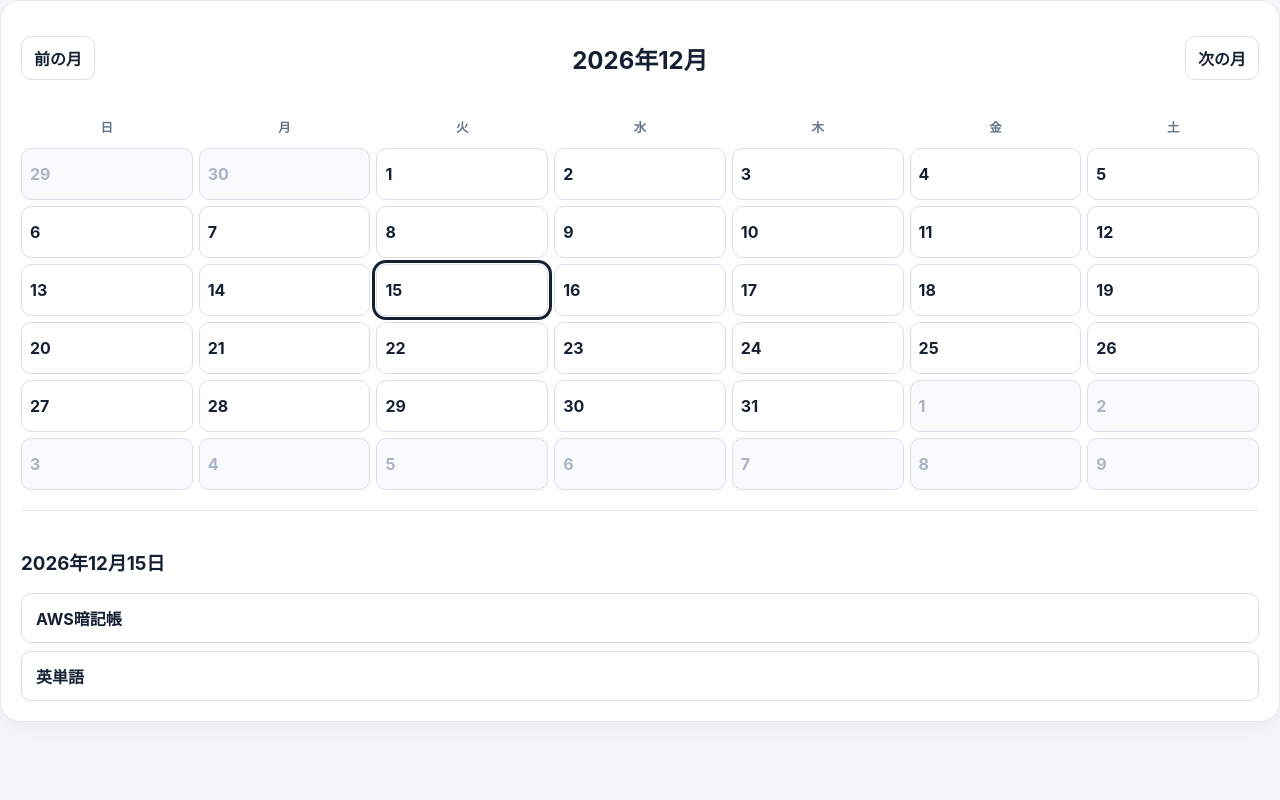
CalendarView › navigates across the year boundary
Click the button "次の月" at (1222, 58), box [1185, 36, 1259, 80]
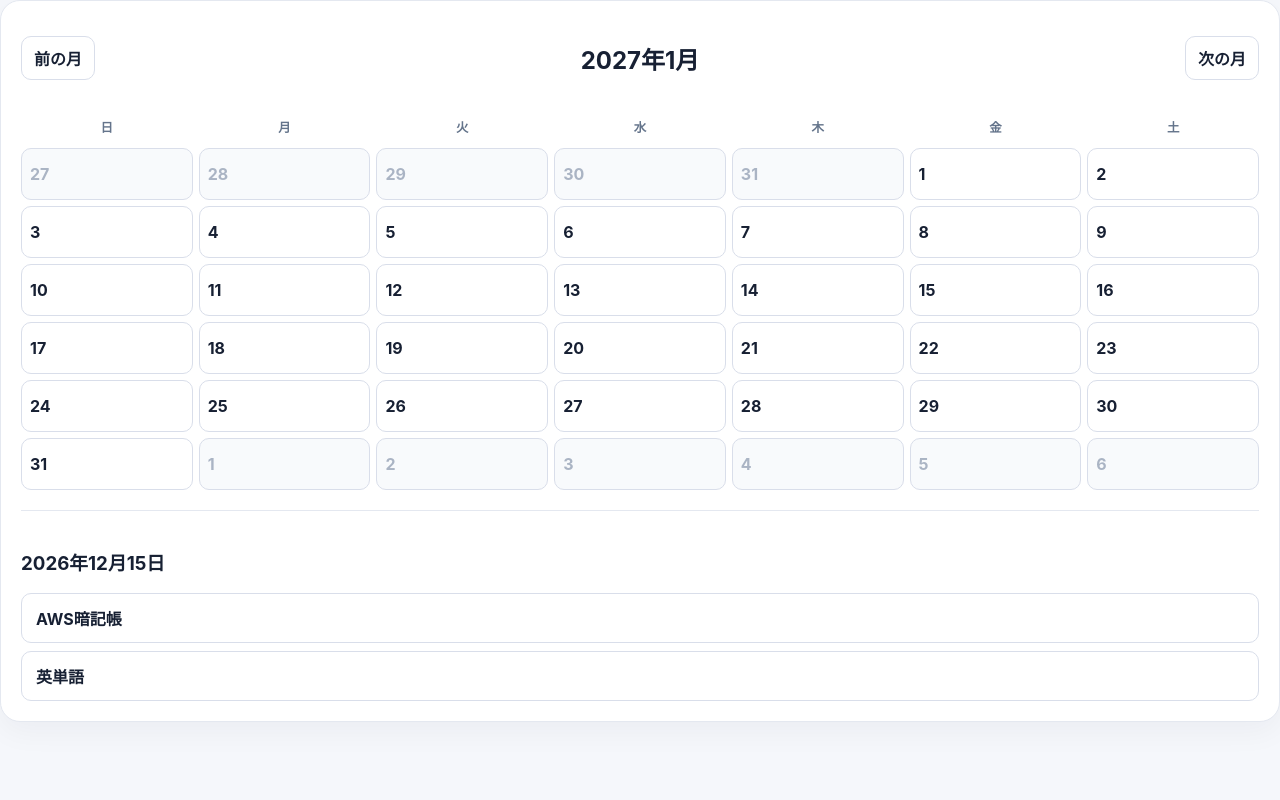
Result: the heading "2027年1月" is shown at [581, 41, 699, 76]
Click the button "前の月" at (58, 58), box [21, 36, 95, 80]
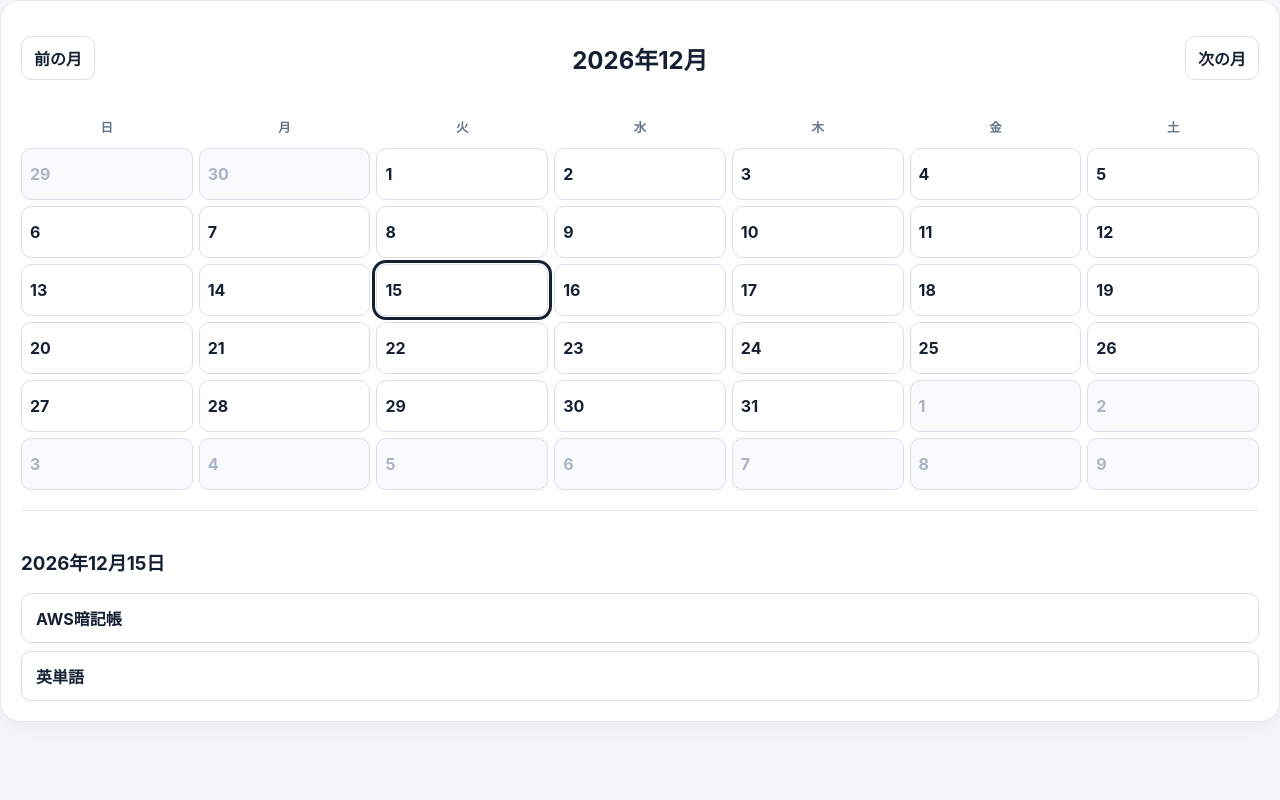
Result: the heading "2026年12月" is shown at [572, 41, 708, 76]
